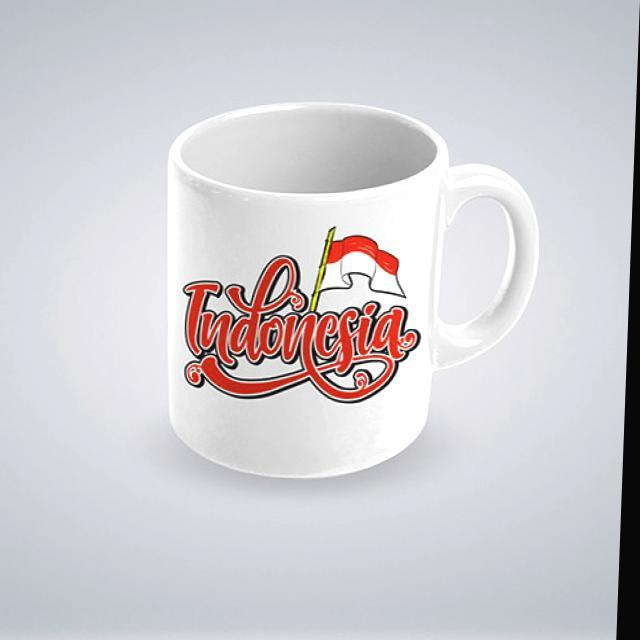cup: (143, 96, 555, 498)
